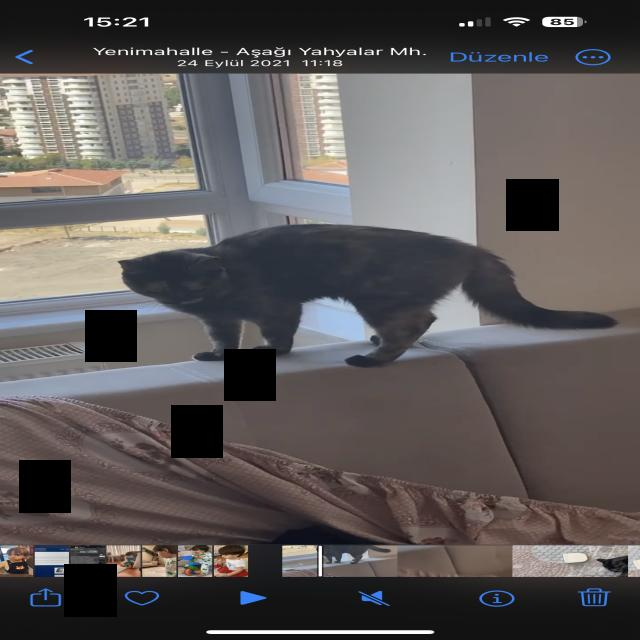authorized: (117, 223, 619, 368)
